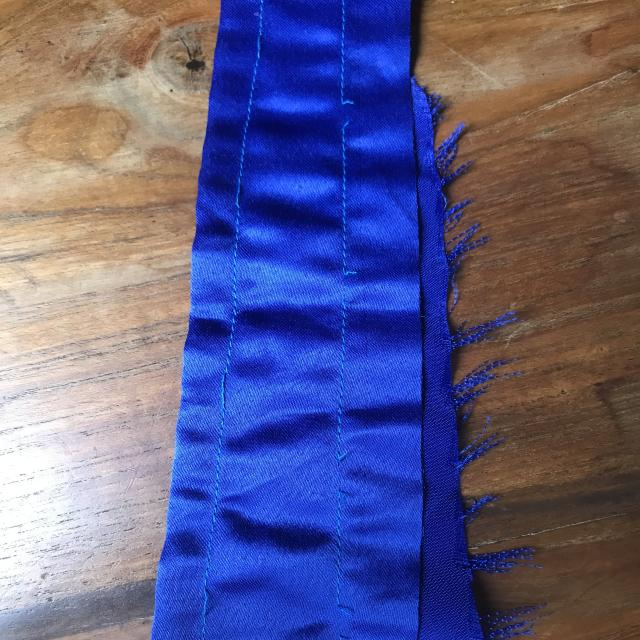broken: (314, 81, 376, 138)
